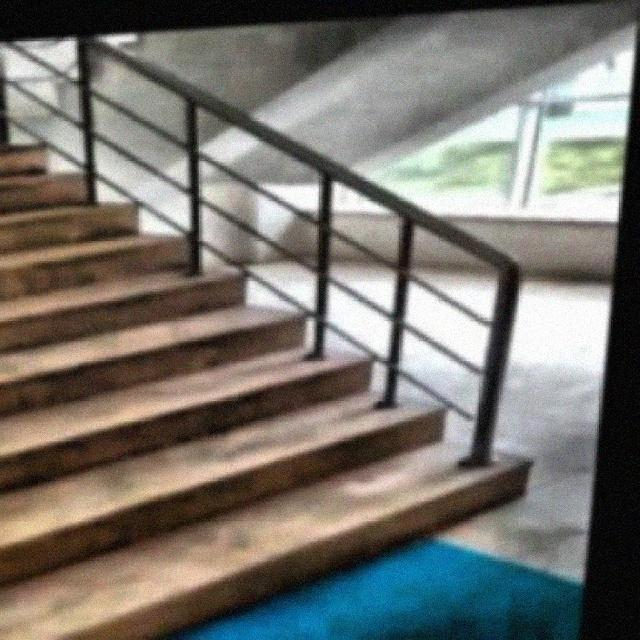stair: (2, 41, 600, 638)
